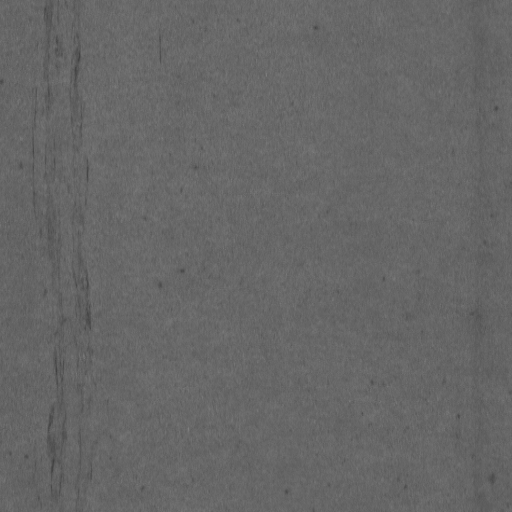zongxianghuashang: (41, 1, 70, 500), (68, 29, 96, 497)
